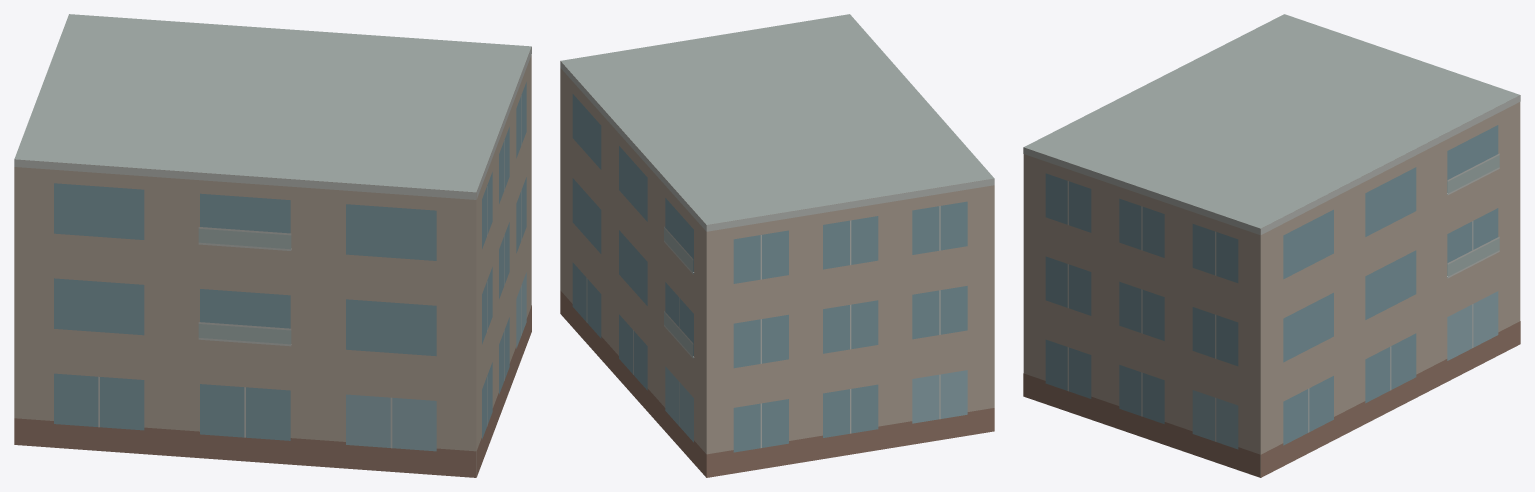
File: survey-upis-32708708.glb
The picture shows the model from 3 angles, left to right: view 1: azimuth 30°, elevation 25°; view 2: azimuth 150°, elevation 25°; view 3: azimuth 270°, elevation 25°; orthographic projection. The views are drawn at different scales.
Visible parts, largest first — view 1: survey-upis-32708708.tmp; view 2: survey-upis-32708708.tmp; view 3: survey-upis-32708708.tmp.
Boxes of the visible parts, box(x1,y1,x2,y2) form: survey-upis-32708708.tmp: box(14, 14, 531, 477); survey-upis-32708708.tmp: box(560, 14, 994, 477); survey-upis-32708708.tmp: box(1023, 14, 1520, 477).
Bounding box in the file's own units: 16.91 × 9.15 × 16.54.
